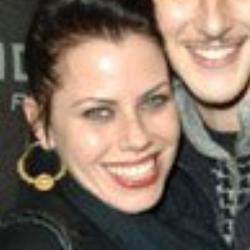face: (12, 9, 189, 220)
